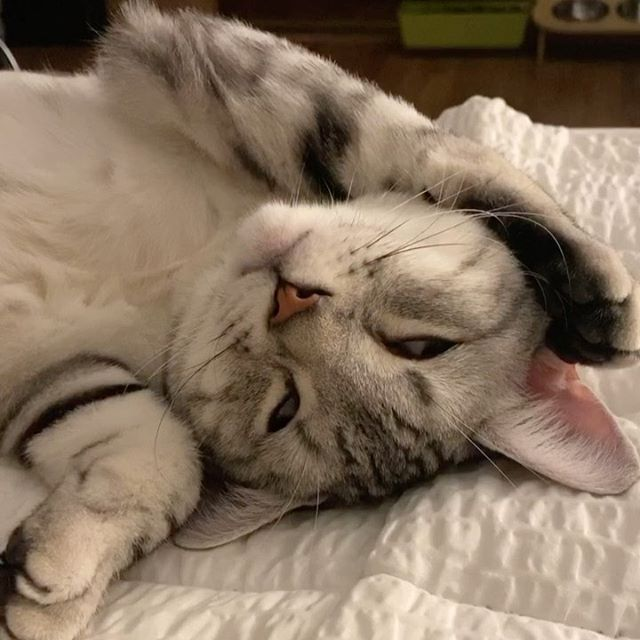cat: (159, 182, 639, 545)
